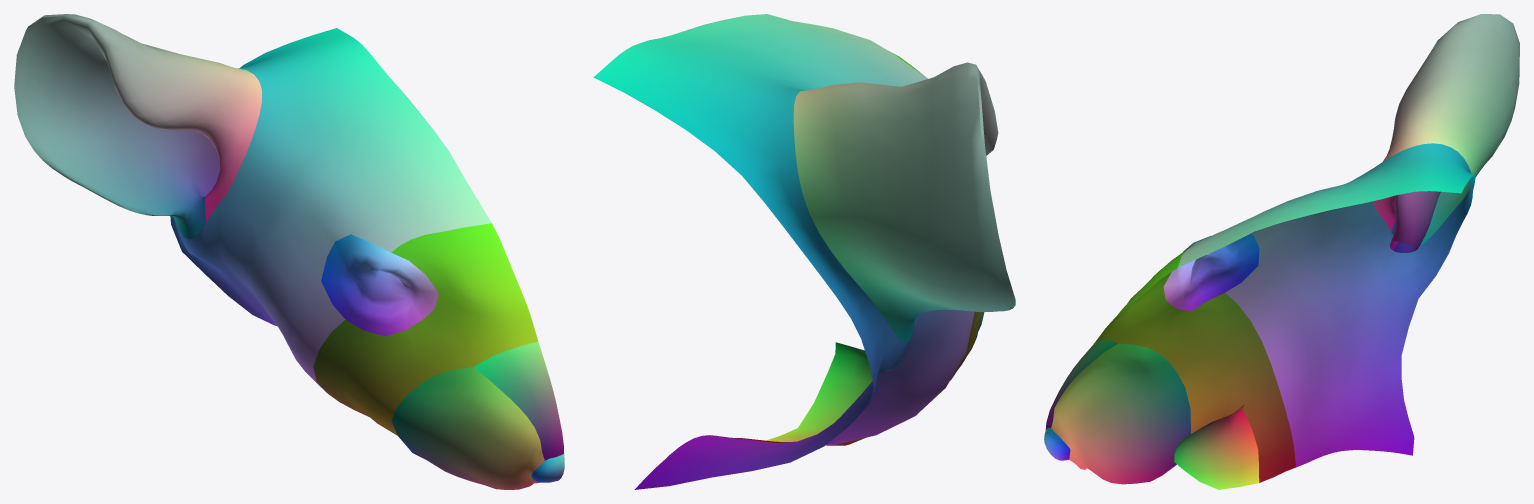
3 renders of one model, left to right at view 1: azimuth 30°, elevation 25°; view 2: azimuth 150°, elevation 25°; view 3: azimuth 270°, elevation 25°, orthographic. The views are drawn at different scales.
Parts seen in each view (by area): view 1: face_class_6, face_class_5, face_class_1, face_class_3, face_class_8, face_class_4, face_class_7; view 2: face_class_6, face_class_5, face_class_2, face_class_1; view 3: face_class_6, face_class_5, face_class_1, face_class_3, face_class_2, face_class_8, face_class_4, face_class_7.
Boxes of the visible parts, x1=… form: face_class_6: x1=170, y1=28, x2=491, y2=392; face_class_5: x1=14, y1=14, x2=261, y2=239; face_class_1: x1=313, y1=223, x2=538, y2=435; face_class_3: x1=391, y1=367, x2=544, y2=489; face_class_8: x1=321, y1=234, x2=438, y2=336; face_class_4: x1=474, y1=341, x2=563, y2=460; face_class_7: x1=531, y1=454, x2=564, y2=482; face_class_6: x1=593, y1=14, x2=974, y2=489; face_class_5: x1=793, y1=62, x2=1015, y2=342; face_class_2: x1=766, y1=342, x2=872, y2=441; face_class_1: x1=735, y1=51, x2=981, y2=445; face_class_6: x1=1178, y1=143, x2=1475, y2=467; face_class_5: x1=1372, y1=14, x2=1519, y2=252; face_class_1: x1=1093, y1=243, x2=1295, y2=482; face_class_3: x1=1051, y1=343, x2=1190, y2=484; face_class_2: x1=1174, y1=409, x2=1259, y2=489; face_class_8: x1=1163, y1=234, x2=1259, y2=310; face_class_4: x1=1045, y1=339, x2=1117, y2=429; face_class_7: x1=1044, y1=427, x2=1070, y2=460.
Size of the model in its own units: 0.154 by 0.1972 by 0.2362.
8 materials, 8 textured.
